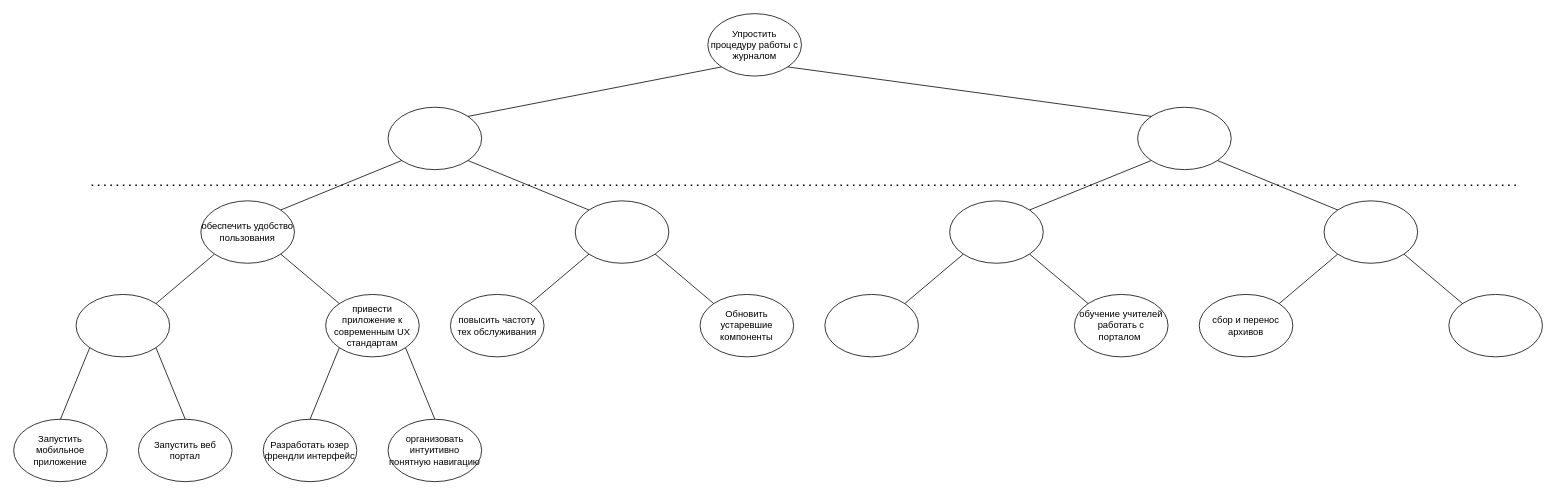
Image size: 1556x495. Some labels were removed from this diagram. The centre of each missing label's shape, as x and y in pixels:
Ввести в обиход электронную систему: (x=434, y=138)
обеспечить доступность: (x=122, y=325)
Перенос имеющихся данных: (x=1370, y=231)
Подготовка и квалификация персонала: (x=996, y=231)
Привести учёт успеваемости к электронному формату: (x=1184, y=138)
улучшить работу серверного оборудования: (x=621, y=231)
